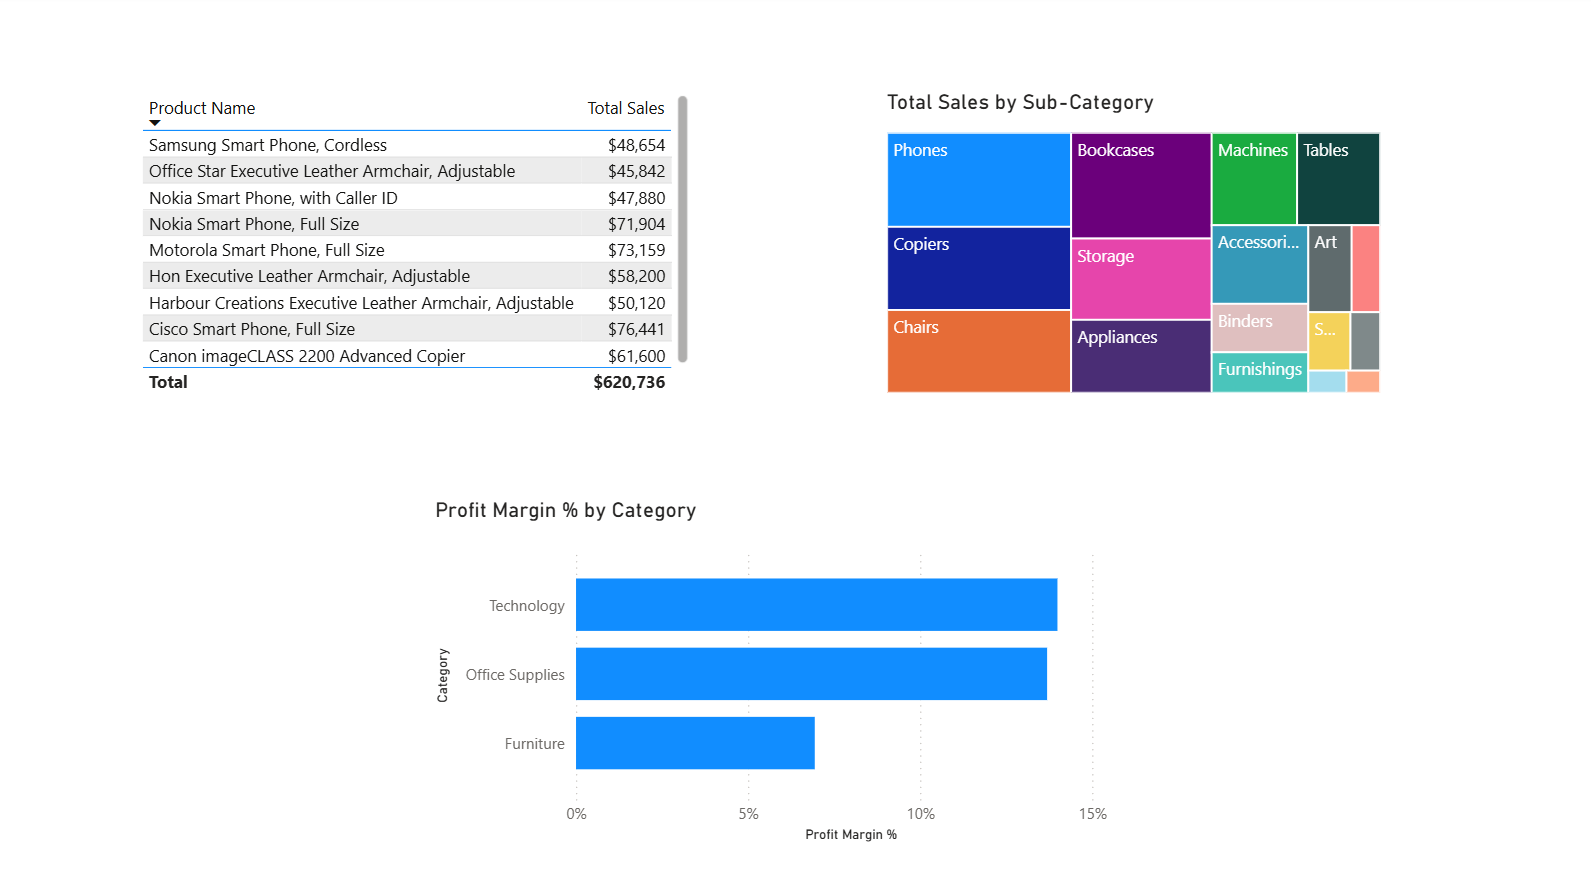

Layout of this report page (visuals, bound fields, positions):
{"tool":"powerbi","page":{"name":"Product Performance","canvas":[1280,720],"ordinal":3},"visuals":[{"type":"tableEx","fields":{"Values":["Product.Product Name","DAX_Measures.Total Sales"]},"box":[112.5,75.4,499.2,247.8],"z":0},{"type":"barChart","fields":{"Category":["Product.Category"],"Y":["DAX_Measures.Profit Margin %"]},"box":[141.2,395,998.3,280.1],"z":1000},{"type":"treemap","fields":{"Group":["Product.Sub-Category"],"Values":["DAX_Measures.Total Sales"]},"box":[640.4,75.4,620.1,247.8],"z":2000}]}

Visuals, with their boxes in screenshot pixels (x1, y1, x2, y2), scaled from the page's 1280x720 canvas onto the 1591x883 screenshot:
tableEx - Product.Product Name x DAX_Measures.Total Sales: box=[140, 92, 760, 396]
barChart - Product.Category x DAX_Measures.Profit Margin %: box=[176, 484, 1416, 828]
treemap - Product.Sub-Category x DAX_Measures.Total Sales: box=[796, 92, 1567, 396]
